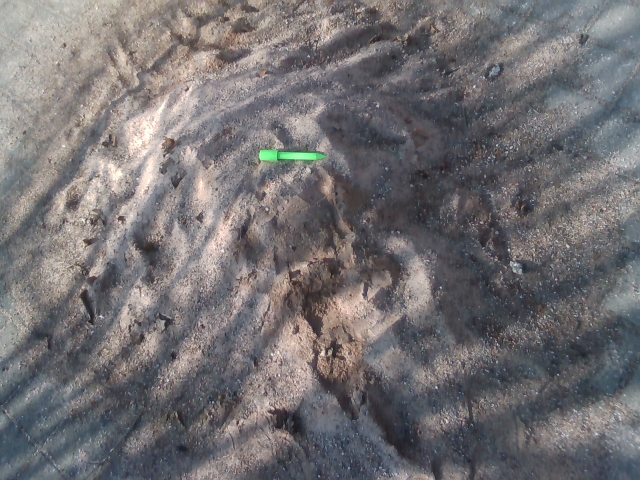Probe: (255, 145, 329, 165)
